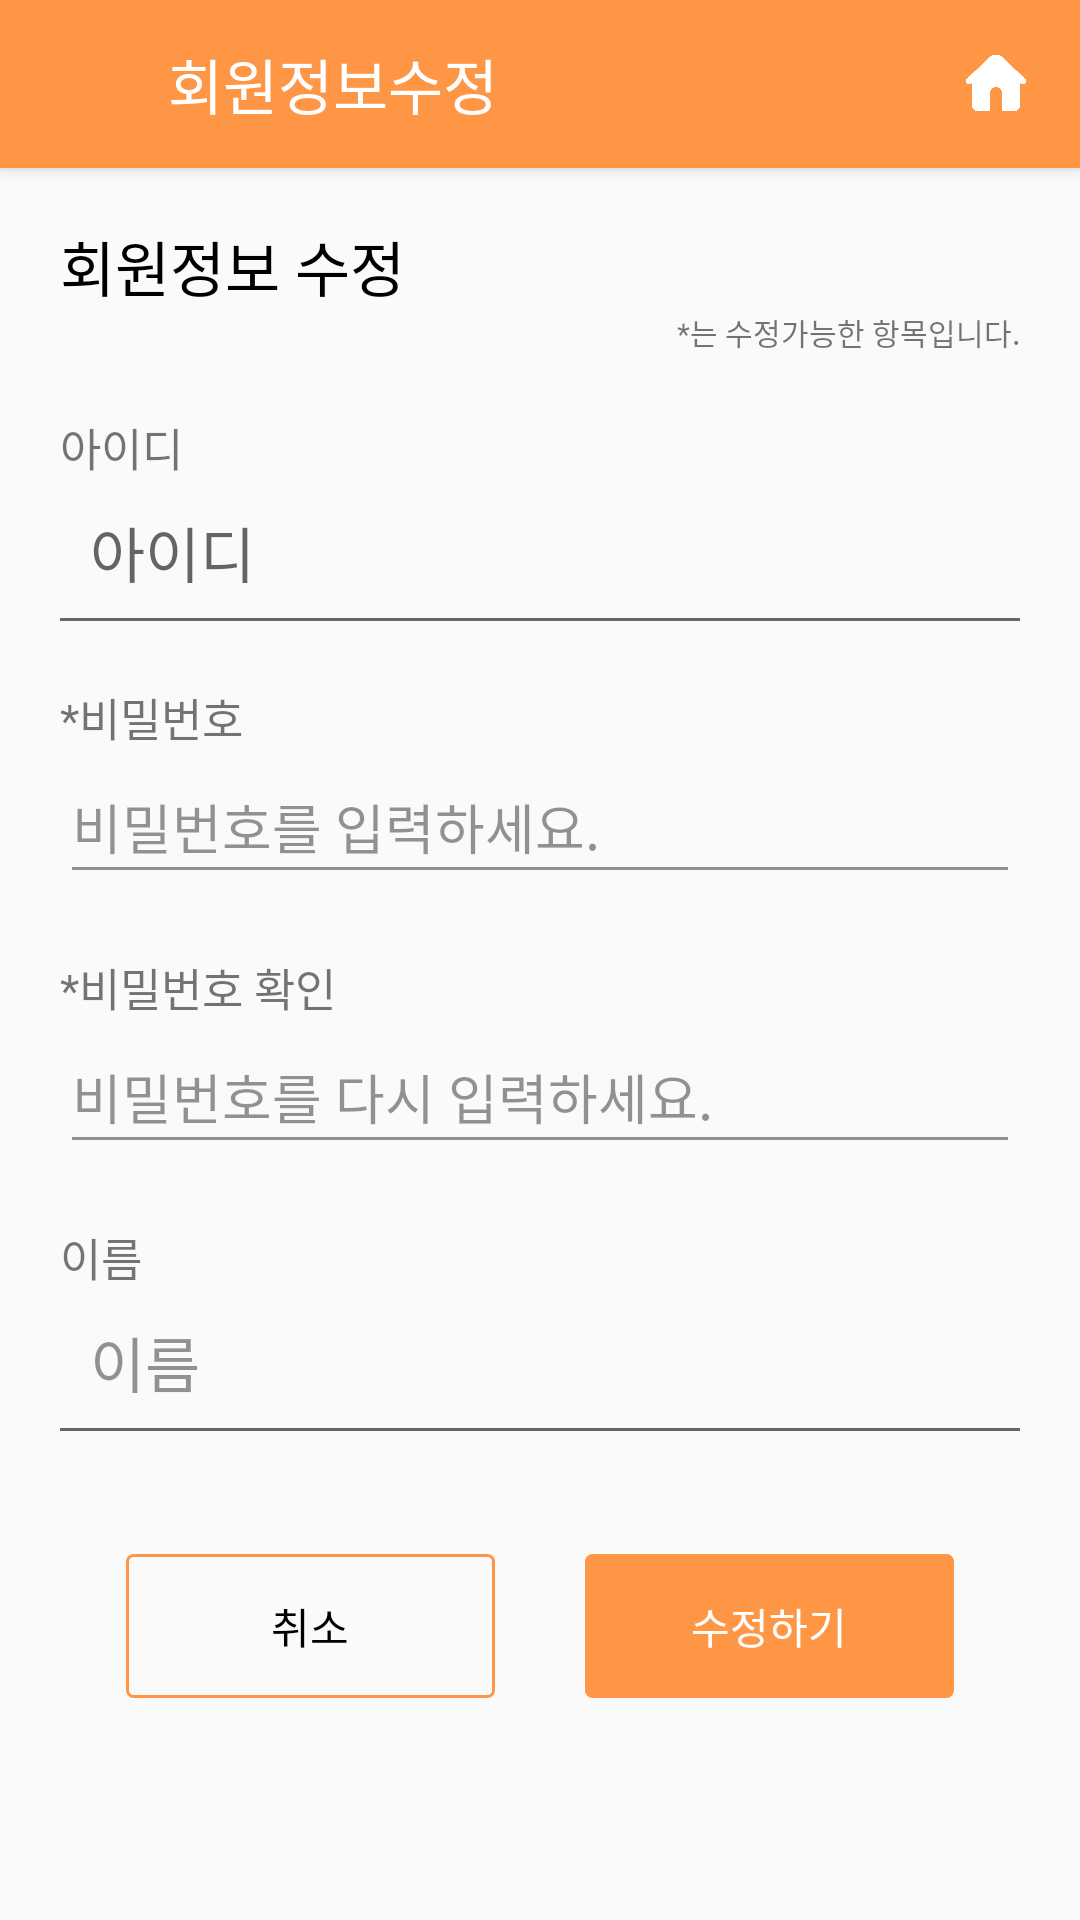

Icon click points for this 1080 × 1920 phone screenshot, format [x,y]:
home: [996,83]
